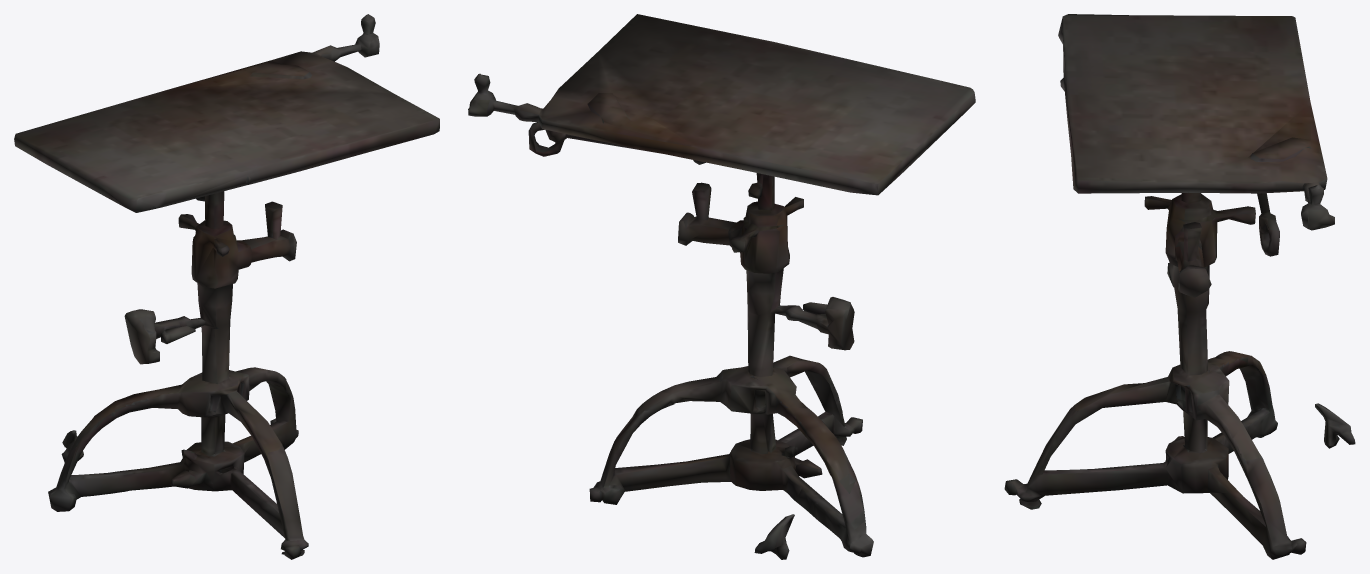
Rendered from weathered-iron-operating-table-v003.glb.
The picture shows the model from 3 angles, left to right: view 1: azimuth 30°, elevation 25°; view 2: azimuth 150°, elevation 25°; view 3: azimuth 270°, elevation 25°; orthographic projection. The views are drawn at different scales.
Visible parts, largest first — view 1: weathered-iron-operating-table; view 2: weathered-iron-operating-table; view 3: weathered-iron-operating-table.
Boxes of the visible parts, left/top/right/bottom form: weathered-iron-operating-table: left=14, top=14, right=439, bottom=559; weathered-iron-operating-table: left=468, top=14, right=975, bottom=559; weathered-iron-operating-table: left=1004, top=14, right=1355, bottom=559.
Size of the model in its own units: 0.8123 by 0.8198 by 0.605.
1 material, 1 textured.
